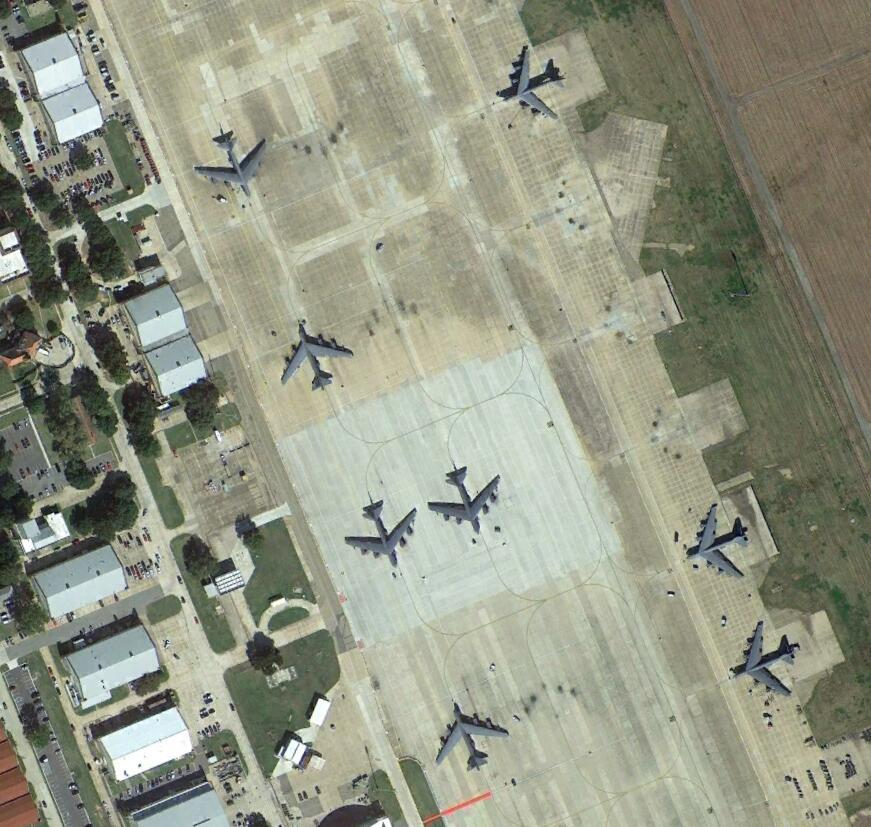A8: (430, 698, 512, 775), (494, 43, 573, 122), (681, 499, 753, 583), (730, 615, 800, 700), (342, 497, 420, 572), (274, 323, 356, 394), (425, 463, 502, 535), (193, 127, 272, 197)
